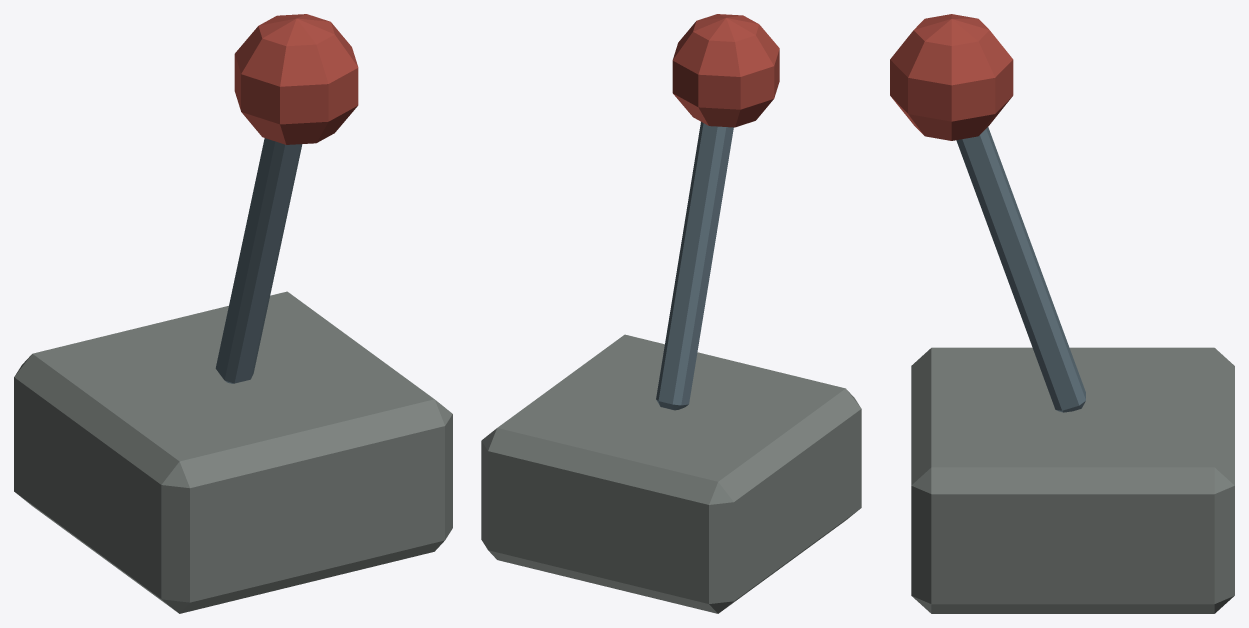
The model's file is objects-lever.lod0.glb.
3 renders of one model, left to right at view 1: azimuth 30°, elevation 25°; view 2: azimuth 150°, elevation 25°; view 3: azimuth 270°, elevation 25°, orthographic. The views are drawn at different scales.
Visible parts, largest first — view 1: objects-lever__body, objects-lever__lever; view 2: objects-lever__body, objects-lever__lever; view 3: objects-lever__body, objects-lever__lever.
Boxes of the visible parts, x1,y1,x2,y2 form: objects-lever__body: (14,291,452,613); objects-lever__lever: (215,14,358,383); objects-lever__body: (481,334,861,613); objects-lever__lever: (656,14,779,410); objects-lever__body: (911,347,1234,613); objects-lever__lever: (890,14,1085,412).
Size of the model in its own units: 0.4 by 0.73 by 0.4261.
